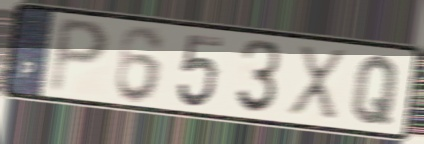3: (234, 38, 284, 116)
5: (174, 31, 227, 108)
6: (113, 22, 166, 107)
P: (45, 13, 113, 97)
Q: (349, 53, 402, 128)
X: (284, 42, 349, 125)
